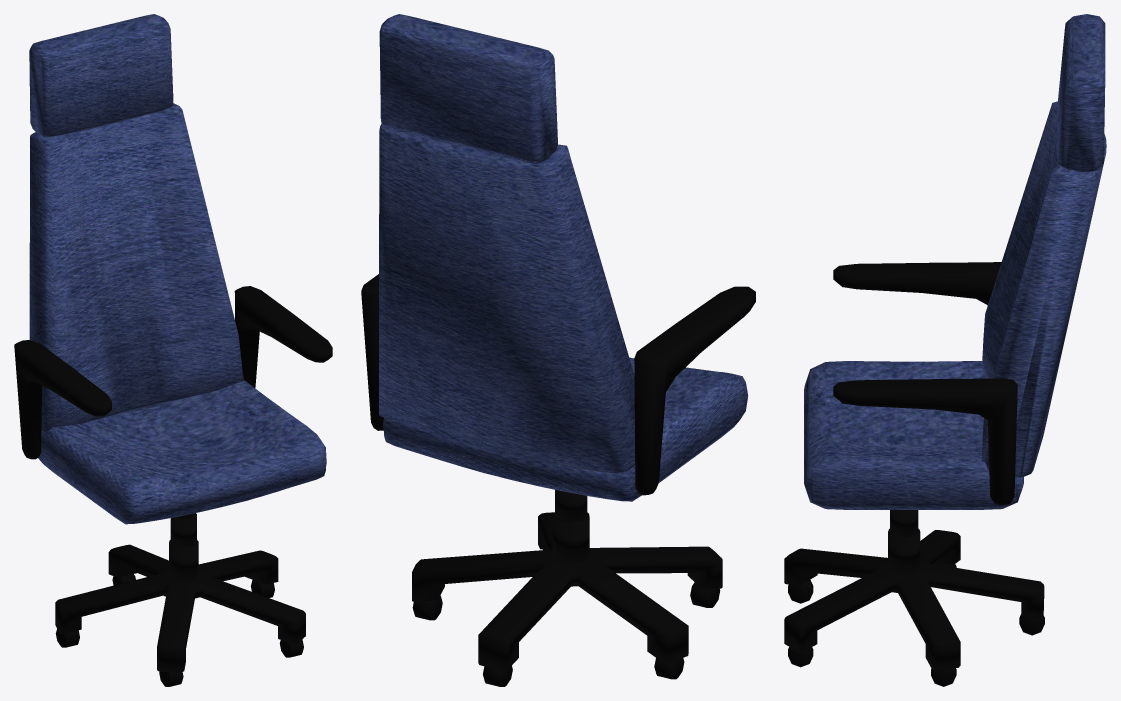
The model's file is teacher chair.fbx.
The picture shows the model from 3 angles, left to right: view 1: azimuth 30°, elevation 25°; view 2: azimuth 150°, elevation 25°; view 3: azimuth 270°, elevation 25°; orthographic projection. The views are drawn at different scales.
Parts seen in each view (by area): view 1: Cube; view 2: Cube; view 3: Cube.
Boxes of the visible parts, x1,y1,x2,y2 form: Cube: (14, 14, 332, 686); Cube: (361, 14, 755, 686); Cube: (784, 14, 1106, 686).
Size of the model in its own units: 240 by 506 by 252.
Materials: 1 (1 with a texture image).
